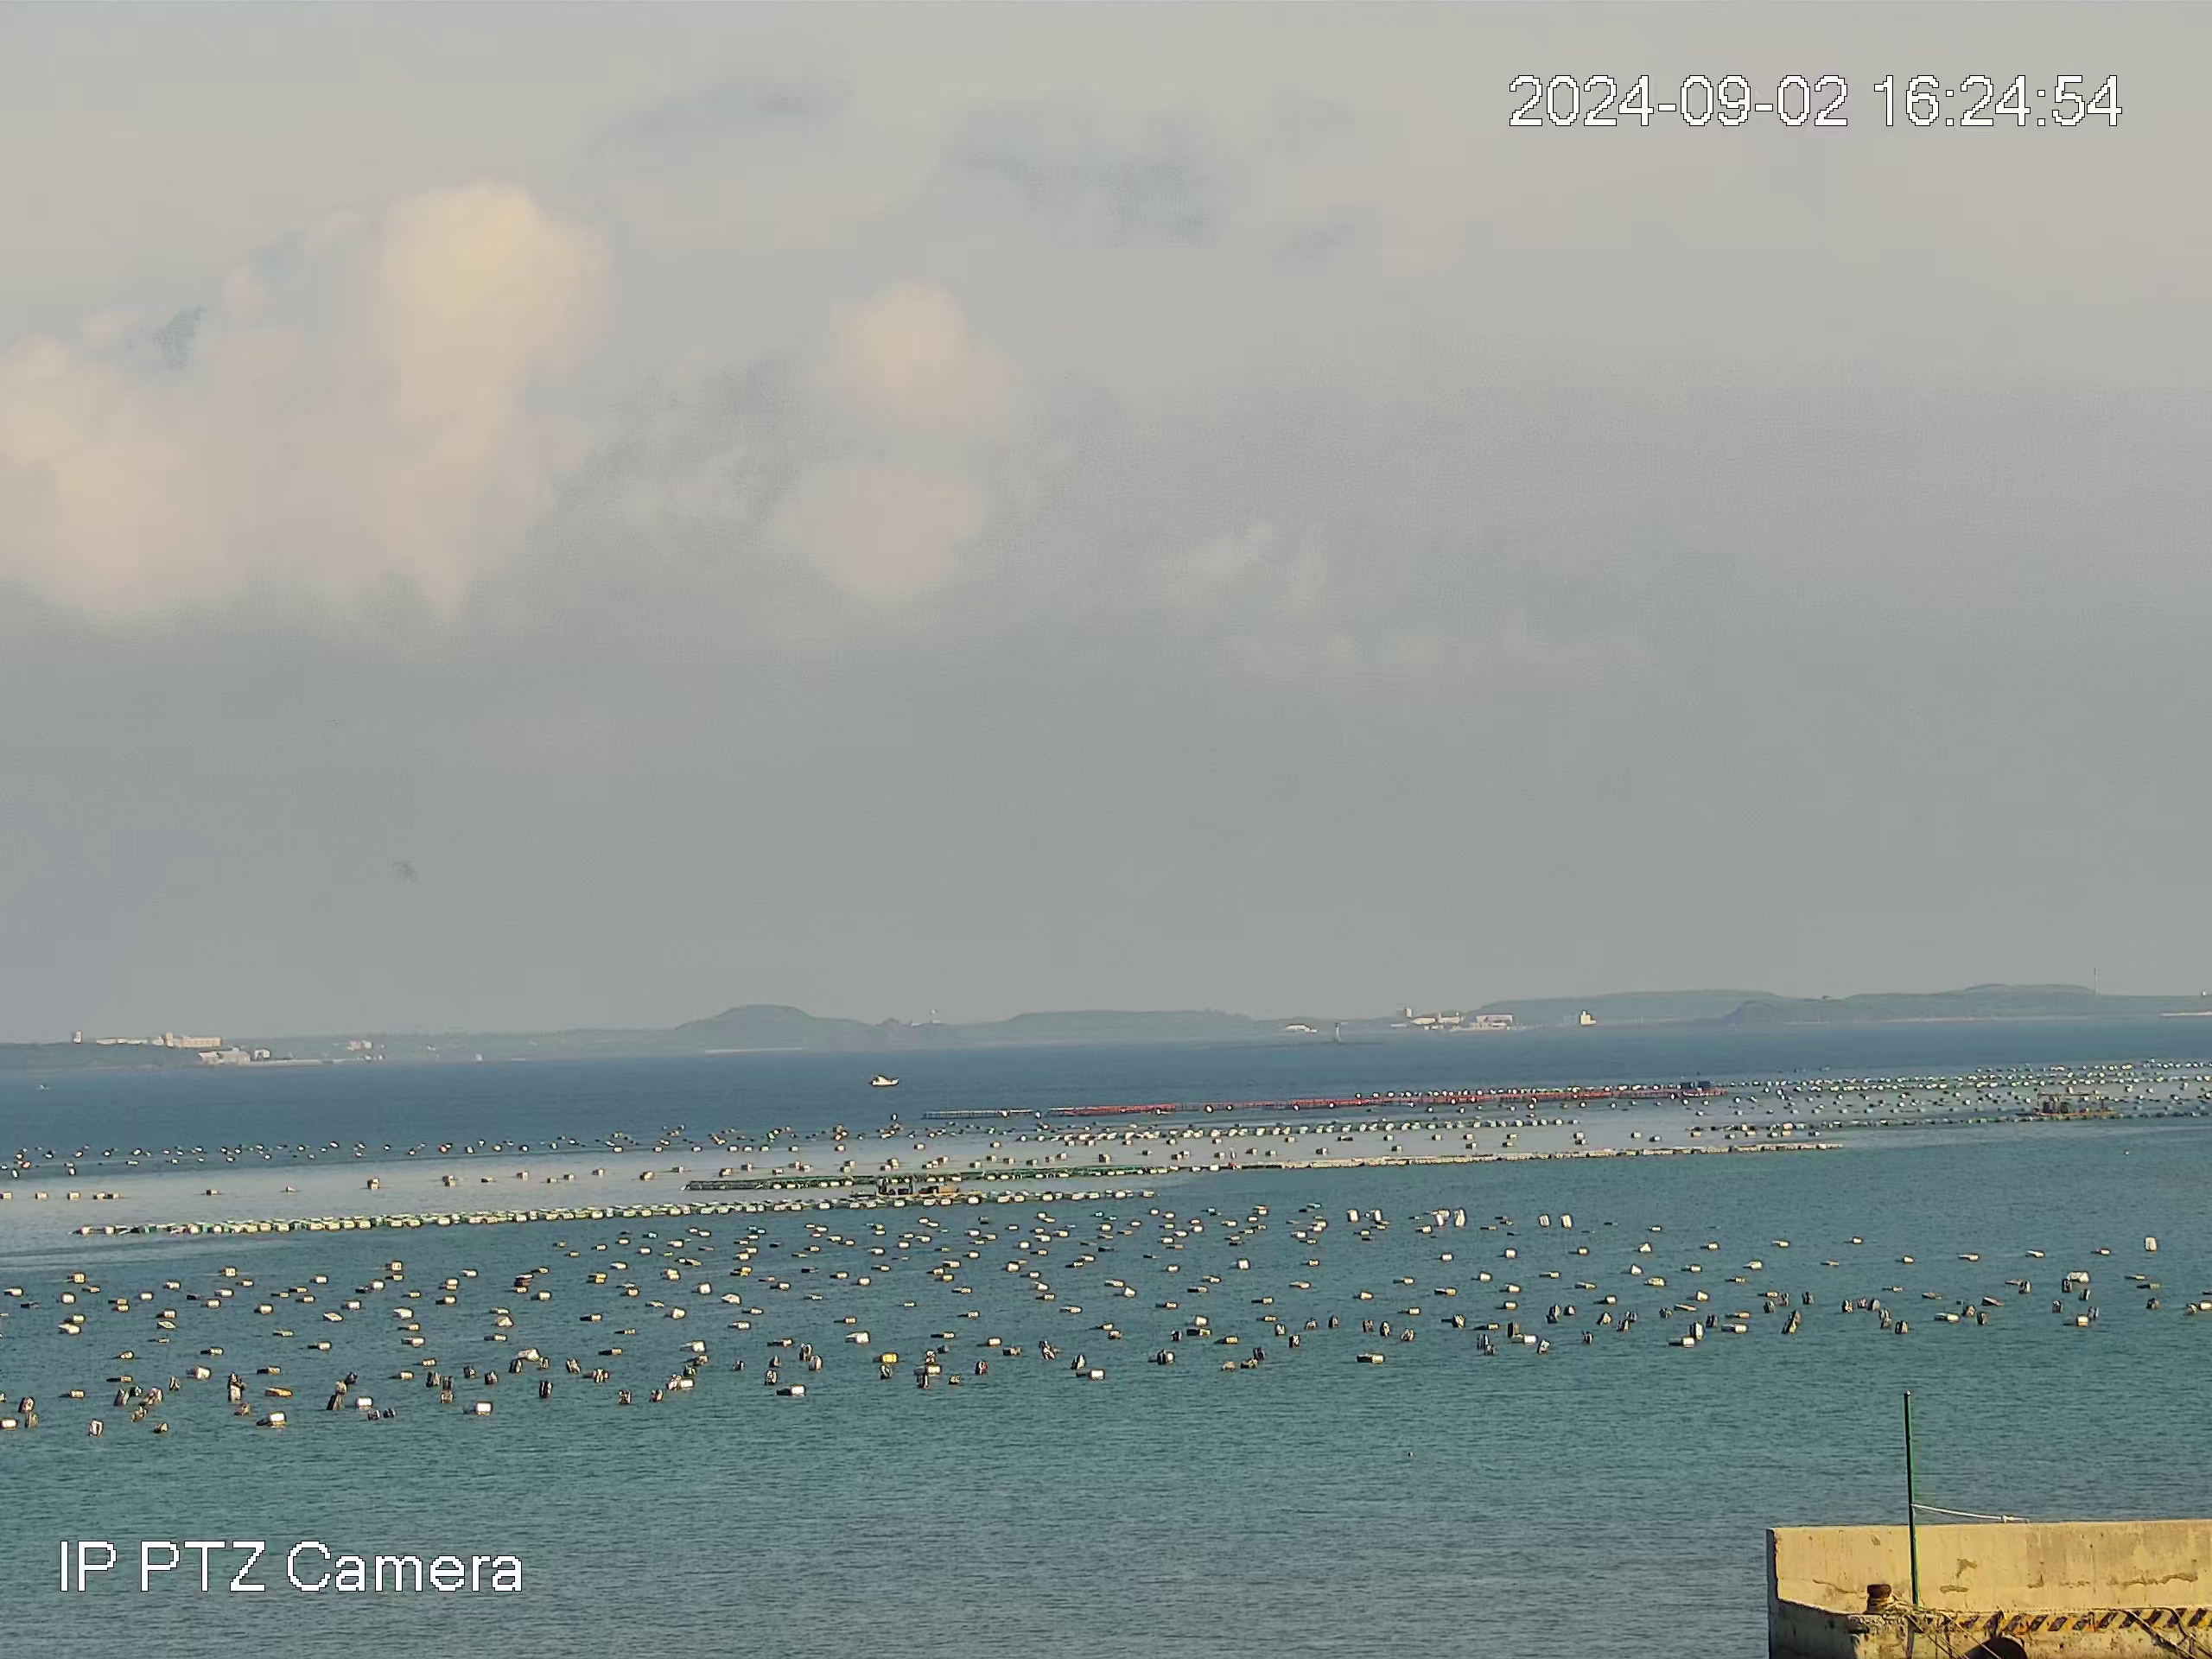boat: (874, 1173, 981, 1197), (2033, 1091, 2114, 1119), (869, 1072, 900, 1087)
